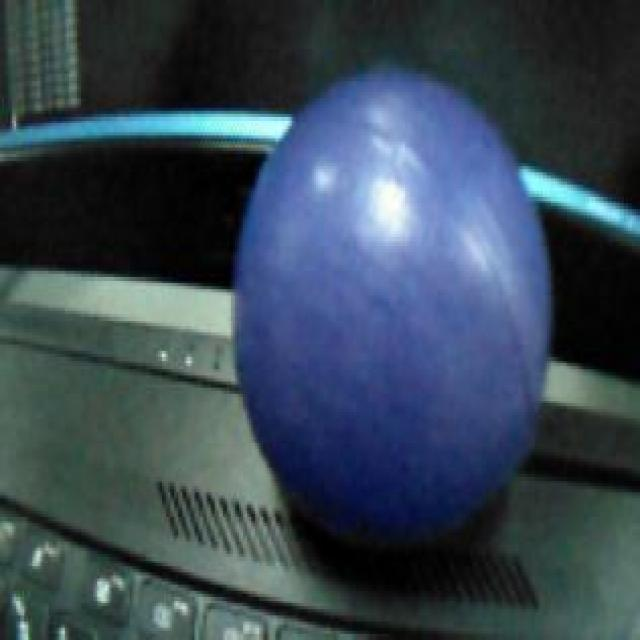BallPurple: (233, 59, 553, 546)
